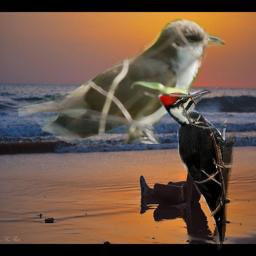Cuckoo: (18, 18, 225, 144)
Woodpecker: (158, 87, 236, 255)
